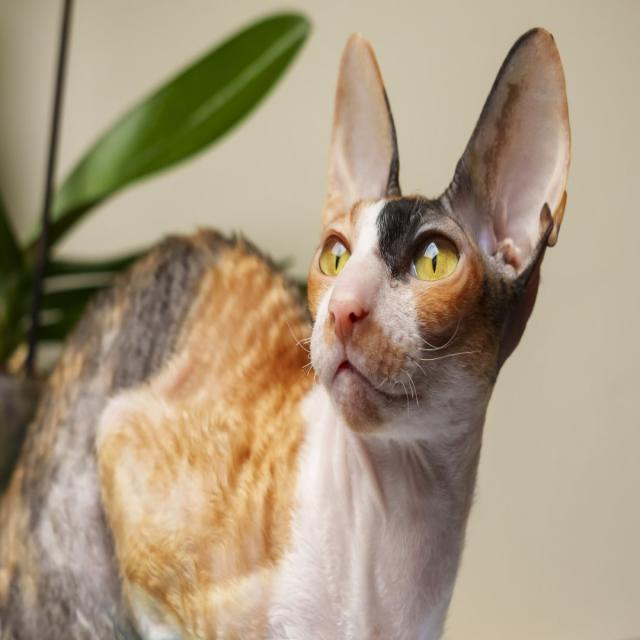Cornish Rex: (0, 18, 577, 640)
